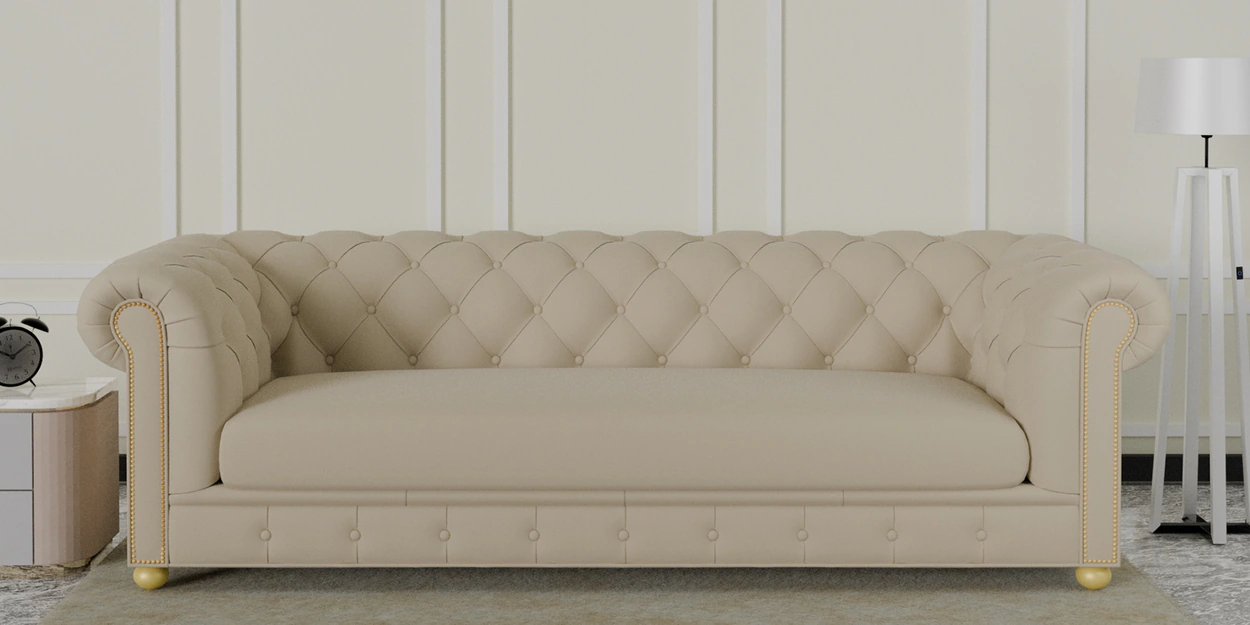3seatersofa: (77, 231, 1170, 587)
backrest: (219, 231, 1041, 382)
base: (166, 485, 1077, 566)
leftarmrest: (972, 235, 1171, 565)
leg: (79, 231, 1169, 576), (133, 568, 168, 589), (1076, 568, 1111, 589)
rightarmrest: (78, 236, 277, 564)
seat: (218, 368, 1031, 489)
